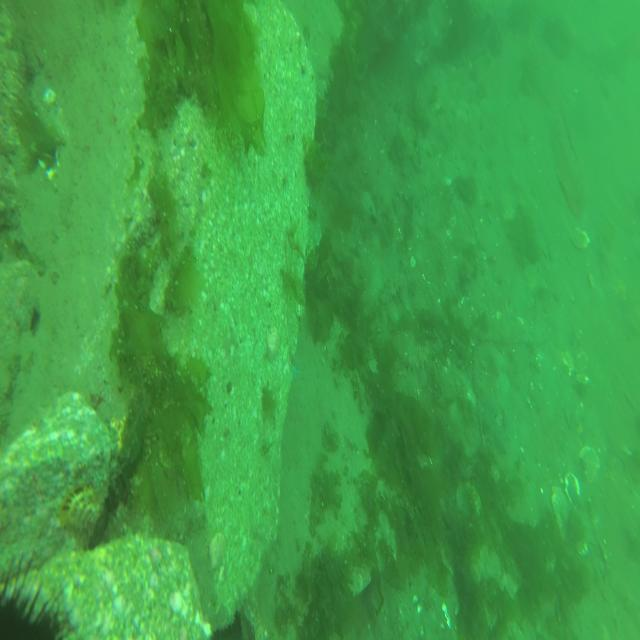echinus: (1, 553, 74, 638)
holothurian: (376, 270, 405, 307), (397, 345, 432, 375)
